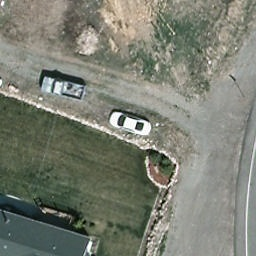car: (108, 111, 153, 138)
pickup: (40, 74, 86, 103)
